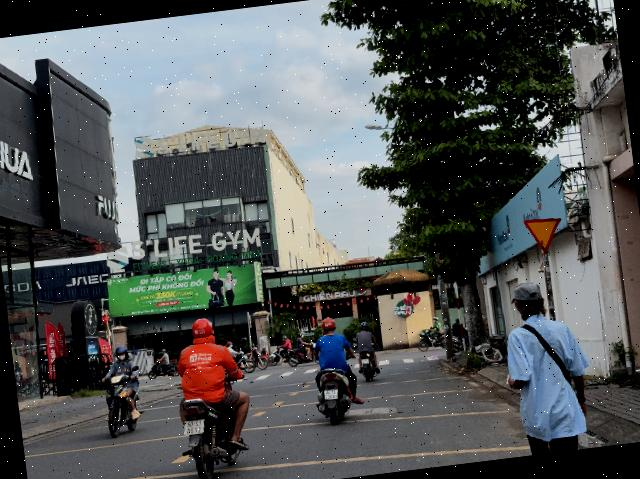giao-nhau-voi-duong-uu-tien: (522, 215, 566, 255)
